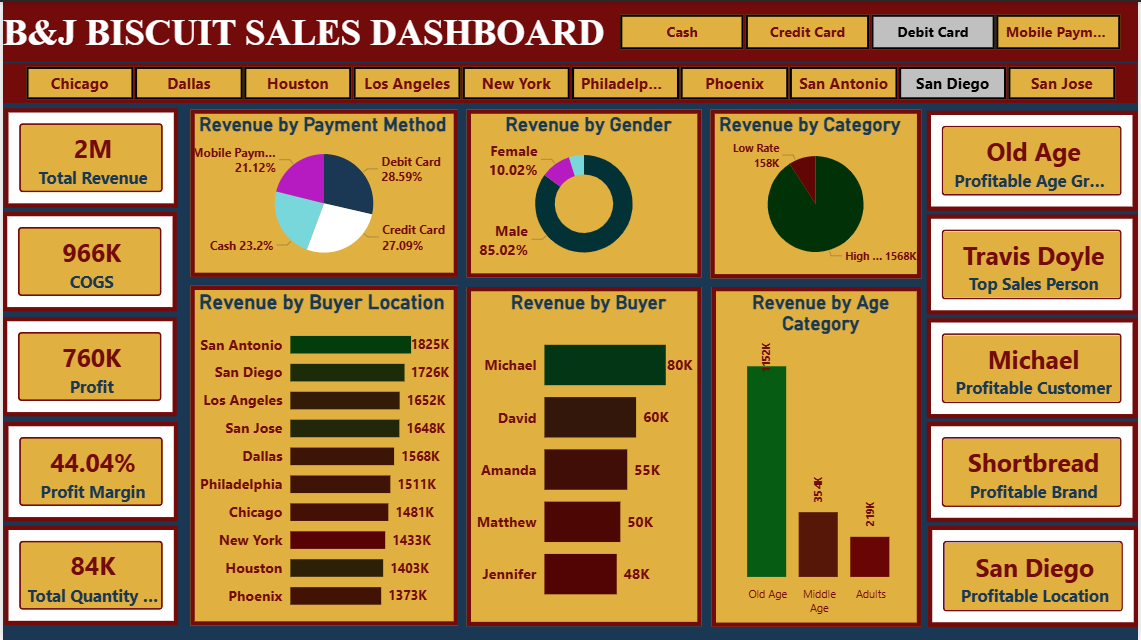

This screenshot's page, from the dashboard's own definition file:
{"tool":"powerbi","page":{"name":"Page 1","canvas":[1280,720],"ordinal":0},"visuals":[{"type":"shape","box":[0,0,1280.4,67.9],"z":0},{"type":"cardVisual","fields":{"Data":["Transaction Data.Profitable Brand"]},"box":[1042,473.8,238,113],"z":1000},{"type":"cardVisual","fields":{"Data":["Calculations.Profitable Location"]},"box":[1042.9,591.1,237.5,114.3],"z":2000},{"type":"cardVisual","fields":{"Data":["Calculations.Profitable Customer"]},"box":[1042,356.6,238,113],"z":3000},{"type":"cardVisual","fields":{"Data":["Calculations.Top Sales Person"]},"box":[1042,239.4,238,113],"z":4000},{"type":"cardVisual","fields":{"Data":["Calculations.Profitable Age Group"]},"box":[1042,122.1,238,113],"z":5000},{"type":"slicer","fields":{"Values":["Transaction Data.Payment Method"]},"box":[675,7.1,603.6,53.6],"z":6000},{"type":"pieChart","title":"Revenue by Category","fields":{"Category":["Products.Category"],"Y":["Calculations.Total Revenue"]},"box":[797.9,121.4,238,190.1],"z":7000},{"type":"donutChart","title":"Revenue by Gender","fields":{"Y":["Calculations.Total Revenue"],"Category":["Transaction Data.Gender"]},"box":[523.2,121.4,265,189.3],"z":8000},{"type":"columnChart","title":"Revenue by Age Category","fields":{"Category":["Transaction Data.Age Category"],"Y":["Calculations.Total Revenue"]},"box":[799.5,321.1,236.4,383.3],"z":9000},{"type":"pieChart","title":"Revenue by Payment Method","fields":{"Category":["Transaction Data.Payment Method"],"Y":["Calculations.Total Revenue"]},"box":[210.8,121.4,301.9,188.5],"z":10000},{"type":"clusteredBarChart","title":" Revenue by Buyer","fields":{"Y":["Calculations.Total Revenue"],"Category":["Transaction Data.Buyer First Name"]},"box":[523.2,321.4,265,382.1],"z":11000},{"type":"slicer","fields":{"Values":["Transaction Data.Buyer Location"]},"box":[0,69.6,1278.6,44.6],"z":12000},{"type":"barChart","title":" Revenue by Buyer Location","fields":{"Category":["Transaction Data.Buyer Location"],"Y":["Calculations.Total Revenue"]},"box":[210.8,319.4,301.9,383.3],"z":13000},{"type":"cardVisual","fields":{"Data":["Calculations.Total Quantity Sold"]},"box":[0.9,591.1,196,112],"z":14000},{"type":"cardVisual","fields":{"Data":["Calculations.COGS"]},"box":[0,237.5,196,112],"z":15000},{"type":"cardVisual","fields":{"Data":["Calculations.Total Revenue"]},"box":[1.3,119.6,196,112],"z":16000},{"type":"cardVisual","fields":{"Data":["Calculations.Profit"]},"box":[0.4,355.4,196,112],"z":17000},{"type":"cardVisual","fields":{"Data":["Calculations.Profit Margin"]},"box":[1.8,473.2,196,112],"z":18000}]}

Visuals, with their boxes in screenshot pixels (x1, y1, x2, y2), scaled from the page's 1280x720 canvas onto the 1141x640 screenshot:
shape: [0,0,1140,60]
cardVisual - Transaction Data.Profitable Brand: [929,421,1140,522]
cardVisual - Calculations.Profitable Location: [930,525,1140,627]
cardVisual - Calculations.Profitable Customer: [929,317,1140,417]
cardVisual - Calculations.Top Sales Person: [929,213,1140,313]
cardVisual - Calculations.Profitable Age Group: [929,109,1140,209]
slicer - Transaction Data.Payment Method: [602,6,1140,54]
"Revenue by Category" pieChart: [711,108,923,277]
"Revenue by Gender" donutChart: [466,108,703,276]
"Revenue by Age Category" columnChart: [713,285,923,626]
"Revenue by Payment Method" pieChart: [188,108,457,275]
" Revenue by Buyer" clusteredBarChart: [466,286,703,625]
slicer - Transaction Data.Buyer Location: [0,62,1140,102]
" Revenue by Buyer Location" barChart: [188,284,457,625]
cardVisual - Calculations.Total Quantity Sold: [1,525,176,625]
cardVisual - Calculations.COGS: [0,211,175,311]
cardVisual - Calculations.Total Revenue: [1,106,176,206]
cardVisual - Calculations.Profit: [0,316,175,415]
cardVisual - Calculations.Profit Margin: [2,421,176,520]
